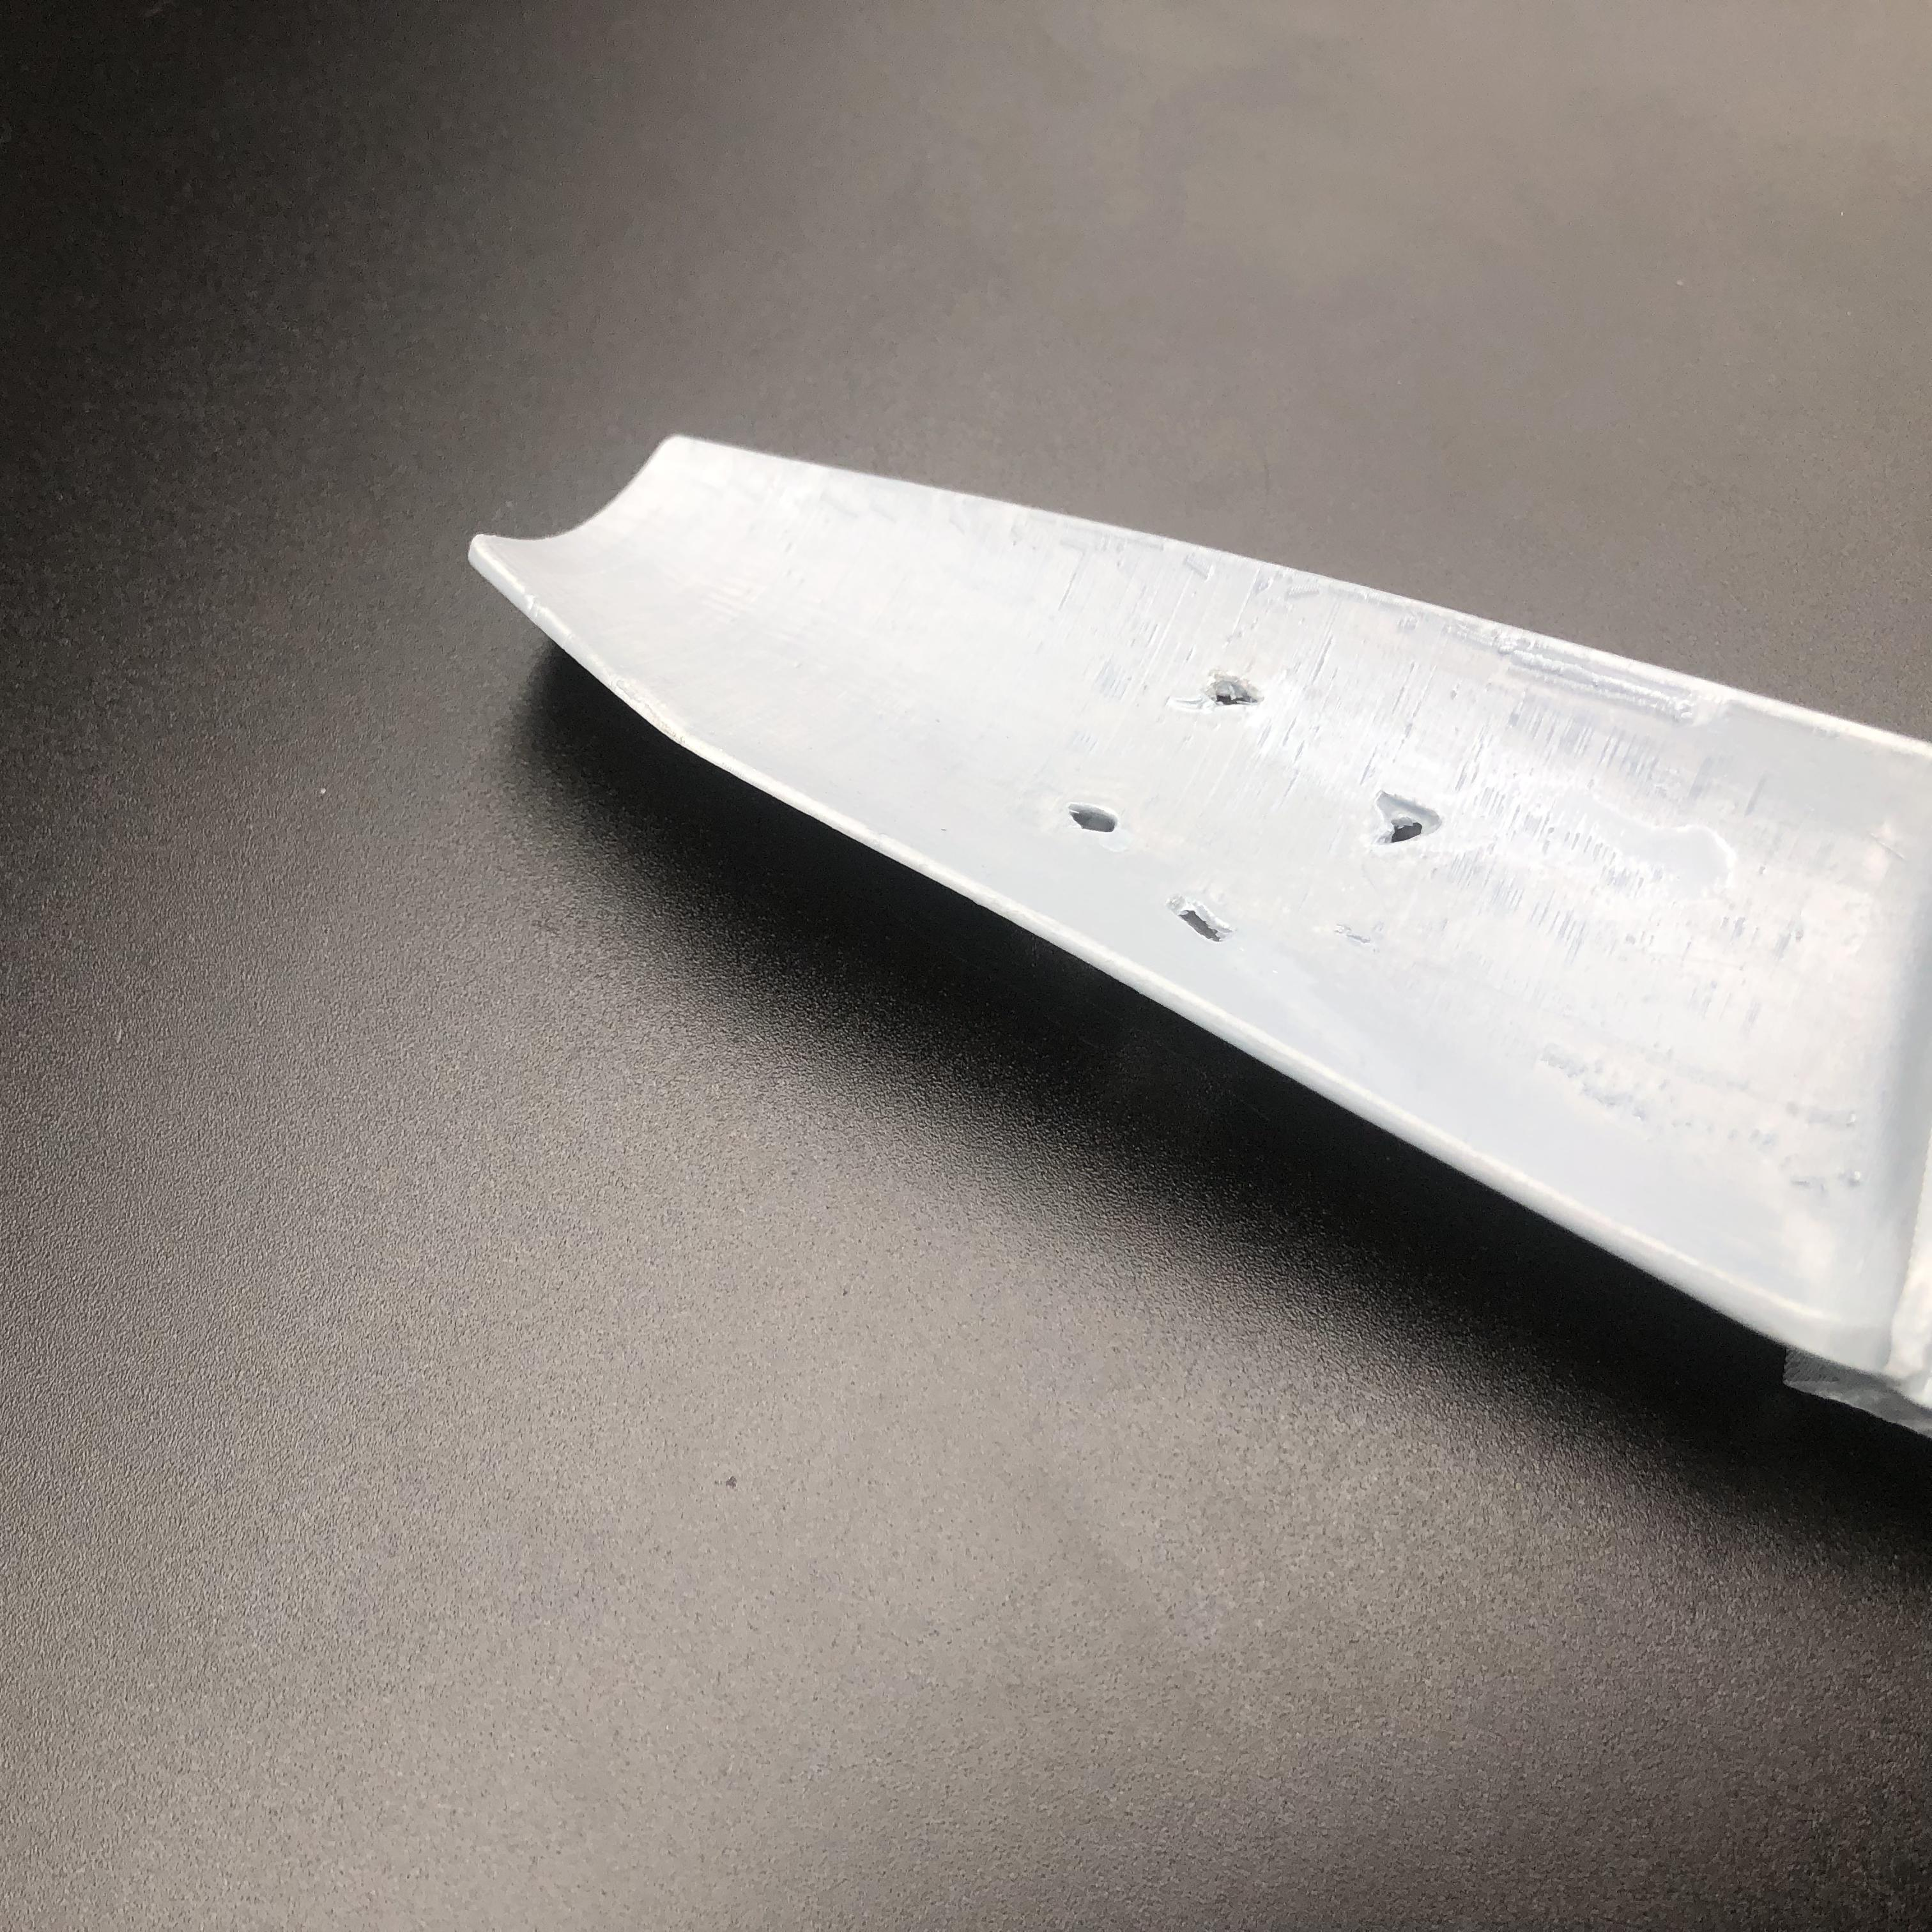breakdown: (1069, 676, 1442, 932)
